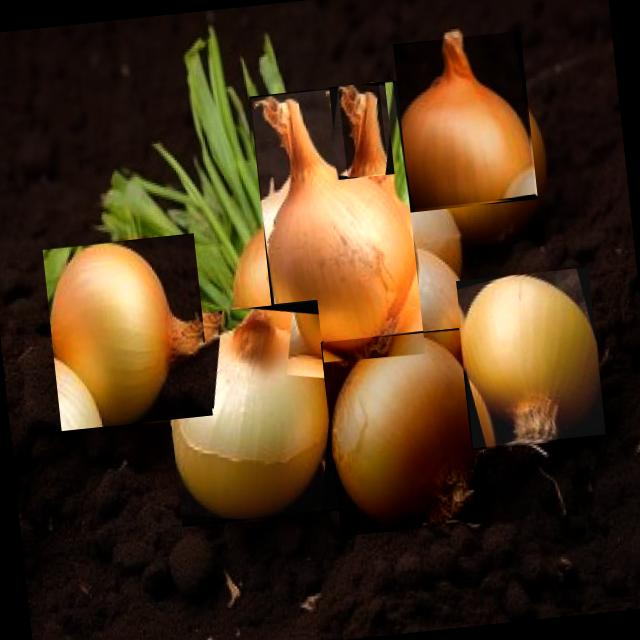healthy: (257, 95, 416, 358), (170, 308, 329, 519), (332, 334, 480, 526), (50, 241, 204, 425), (462, 275, 599, 440), (403, 38, 532, 200), (338, 84, 386, 177)
